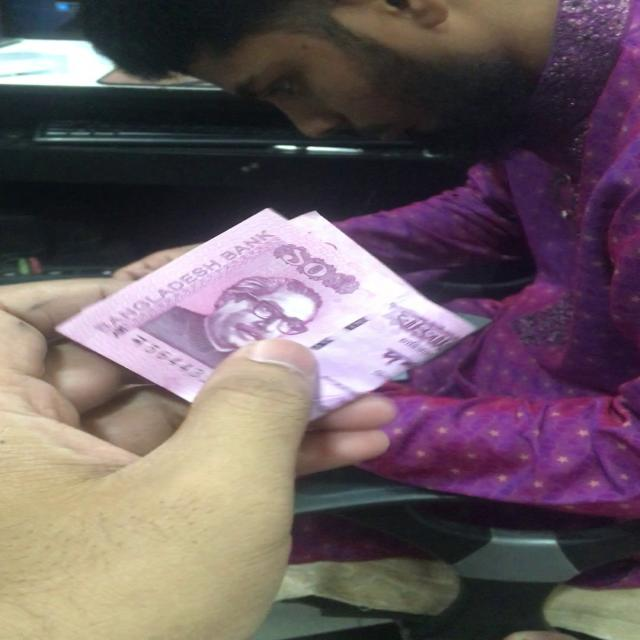Taka: (61, 205, 493, 437)
